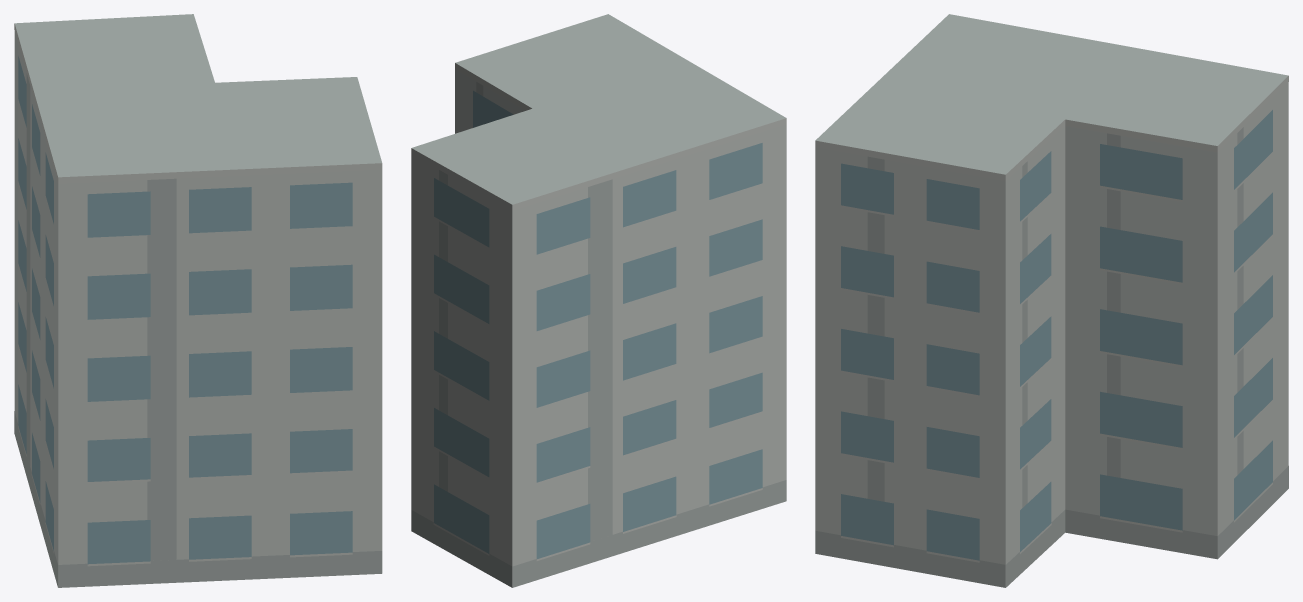
Rendered from survey-upis-32739678.glb.
3 views of the same model, side by side, from view 1: azimuth 30°, elevation 25°; view 2: azimuth 150°, elevation 25°; view 3: azimuth 270°, elevation 25° (orthographic). The views are drawn at different scales.
Parts seen in each view (by area): view 1: survey-upis-32739678.tmp; view 2: survey-upis-32739678.tmp; view 3: survey-upis-32739678.tmp.
Part boxes in pixels (x1,y1,x2,y2): survey-upis-32739678.tmp: (14,14,382,587); survey-upis-32739678.tmp: (411,14,786,587); survey-upis-32739678.tmp: (815,14,1288,587).
Size of the model in its own units: 12.73 by 15.25 by 15.85.
